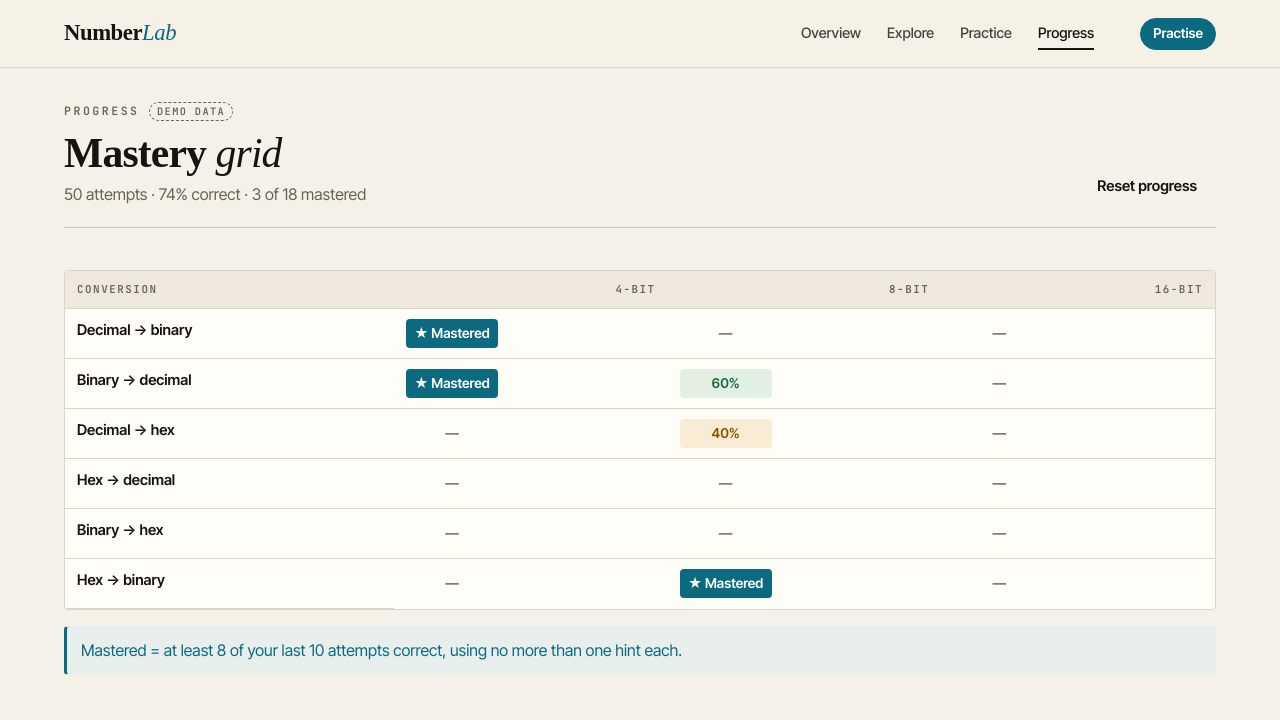
Test case: Number Lab workflow › shows the mastery grid with demo data and an empty state
Expected: the text "★ Mastered" in the row of "Decimal → binary" is shown, x1=414 y1=325 x2=490 y2=341
Click the button "Reset progress": (1147, 187) x1=1078 y1=167 x2=1216 y2=207
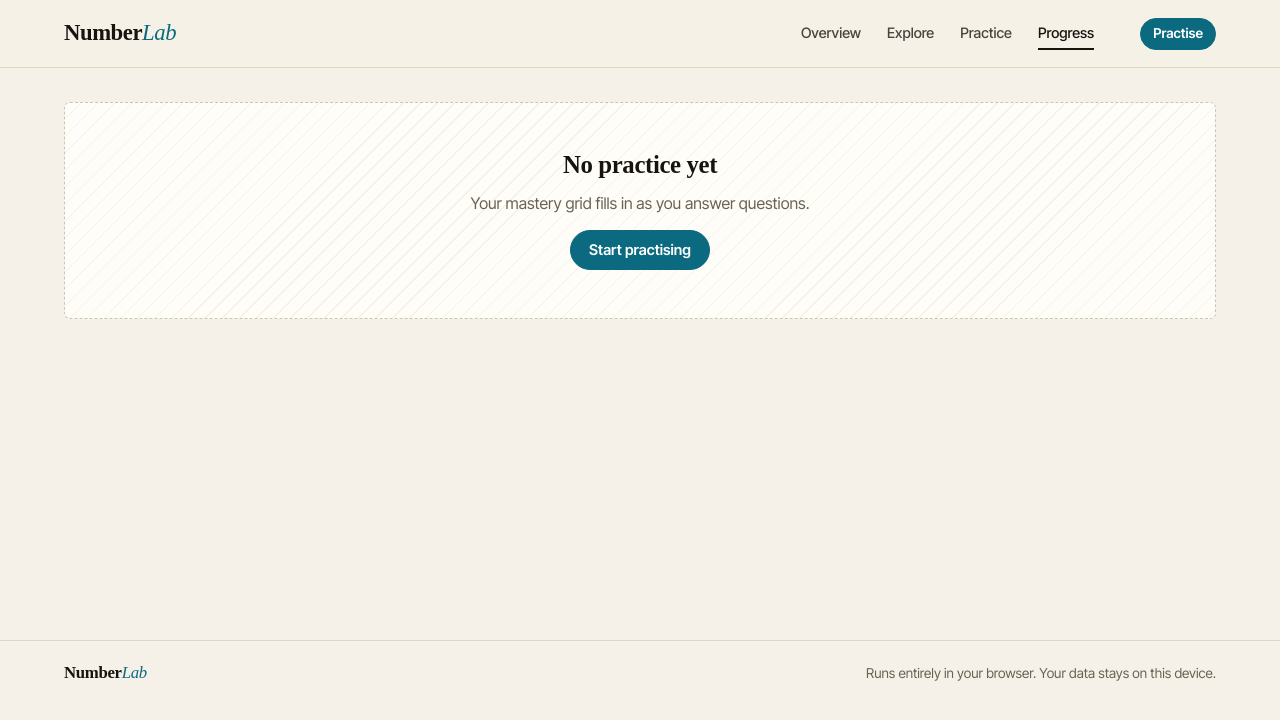
Now the heading "No practice yet" is shown, box x1=563 y1=151 x2=717 y2=178
